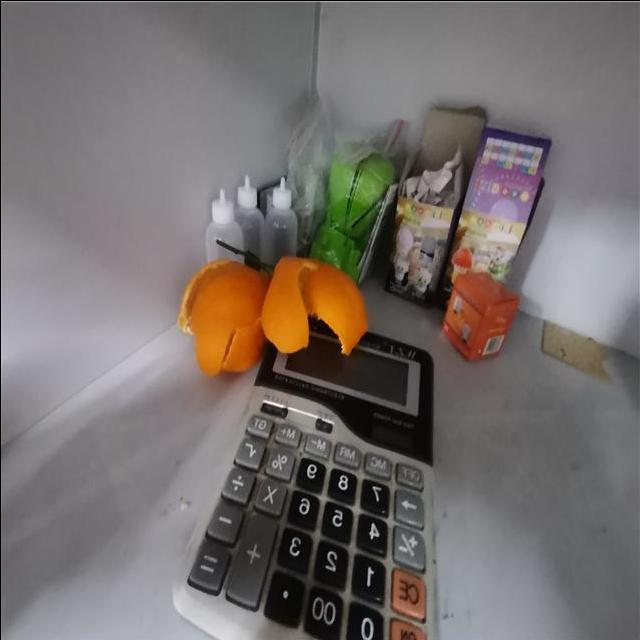orange peel: (178, 256, 274, 378), (259, 253, 367, 357)
